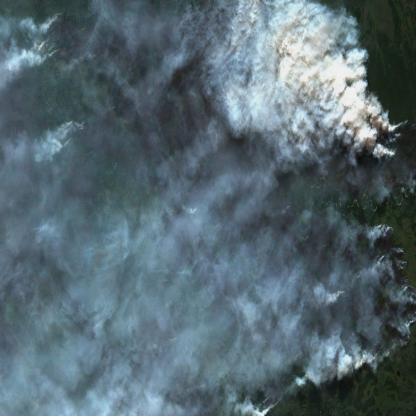fire: (382, 218, 415, 281), (386, 114, 406, 168), (59, 111, 85, 149), (43, 13, 63, 60), (354, 344, 391, 365), (398, 315, 416, 351), (258, 392, 288, 407), (181, 196, 198, 217), (338, 284, 352, 301), (283, 200, 290, 221)
